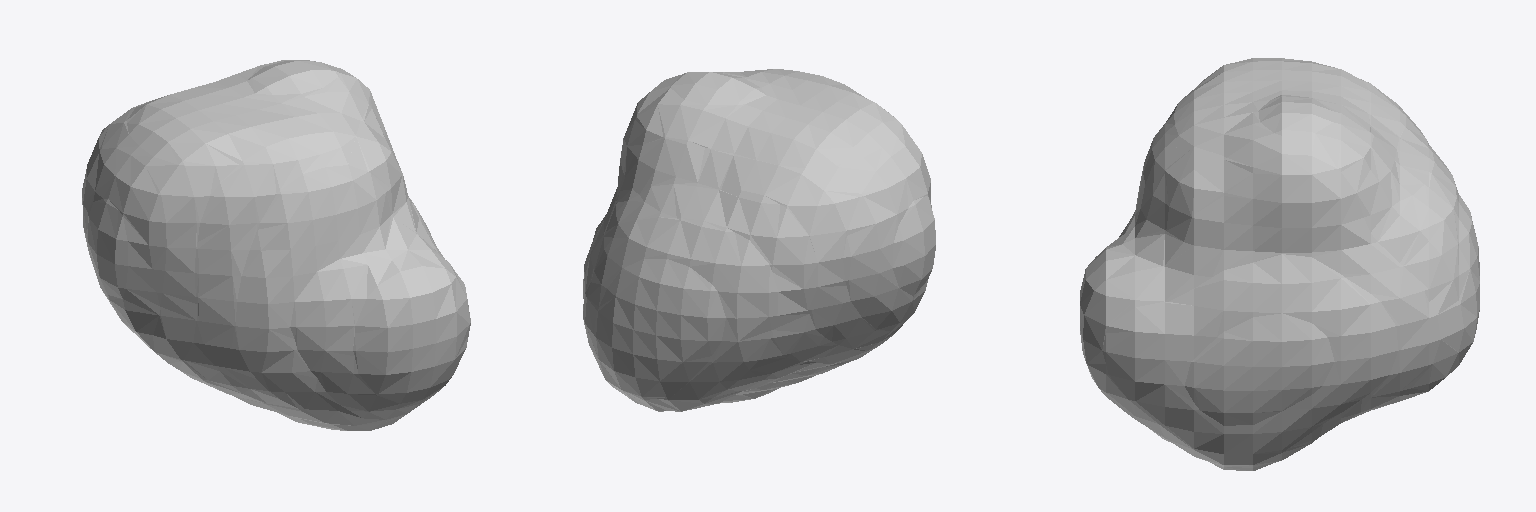
Rendered from 1s17_1_cms.obj.
The picture shows the model from 3 angles: view 1: azimuth 30°, elevation 25°; view 2: azimuth 150°, elevation 25°; view 3: azimuth 270°, elevation 25°; orthographic projection.
Bounding box in the file's own units: 55.98 × 57.83 × 61.34.